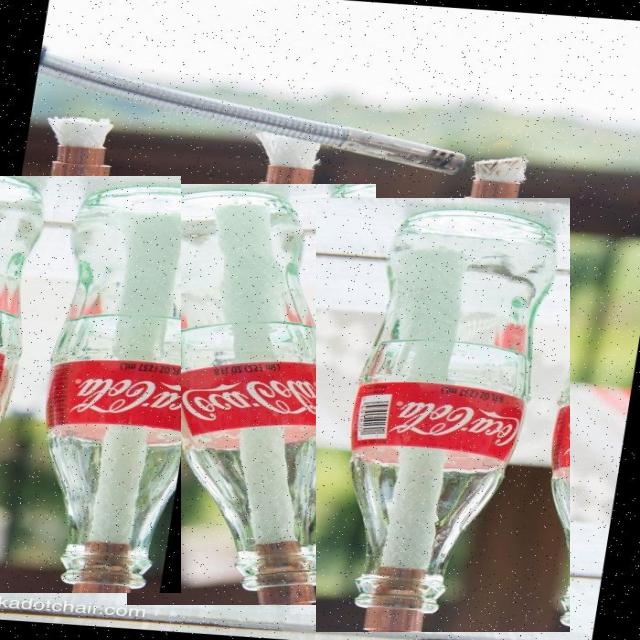coca-cola: (316, 198, 570, 632), (127, 184, 376, 605), (0, 176, 181, 593)
